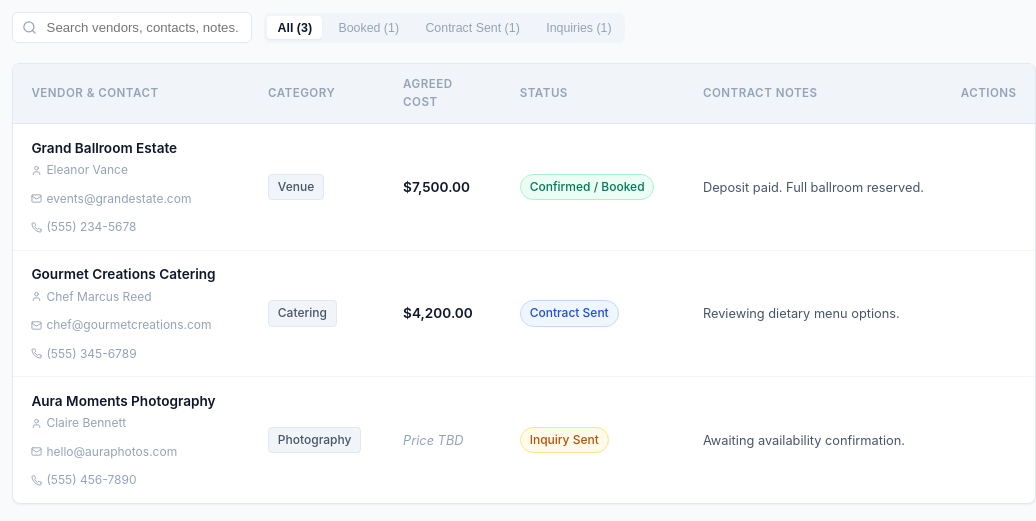
Test: VendorBookingTable Component (Sub-Task 3.6.2) › filters bookings via status filter pills
Click Booked pill
Click the button "Booked (1)" at (369, 28), box [328, 16, 409, 40]
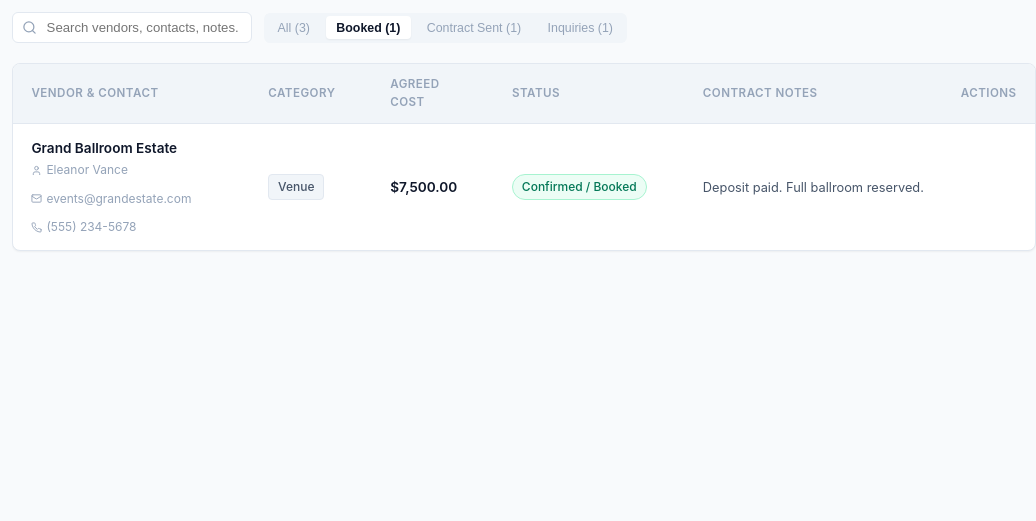
Check: the text "Grand Ballroom Estate" is shown, box [31, 140, 177, 156]
Check: the text "Gourmet Creations Catering" is gone
Check: the text "Aura Moments Photography" is gone
Click Inquiries pill
Click the button "Inquiries (1)" at (580, 28), box [537, 16, 623, 40]
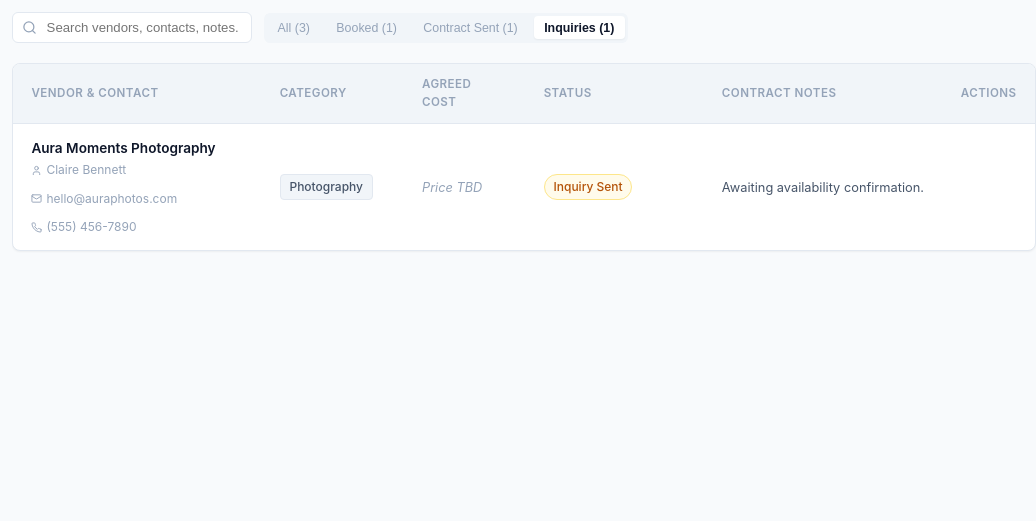
Check: the text "Aura Moments Photography" is shown, box [31, 138, 243, 158]
Check: the text "Grand Ballroom Estate" is gone
